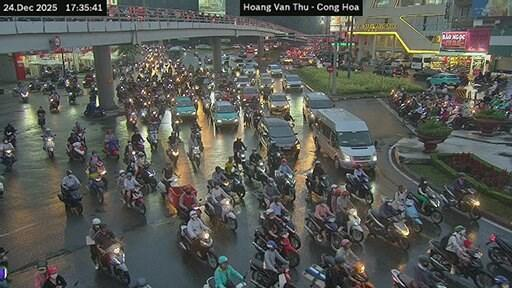motorbike: (364, 208, 409, 248), (179, 225, 217, 268), (454, 248, 492, 287), (304, 211, 341, 250), (441, 184, 480, 219), (249, 259, 294, 287), (409, 188, 441, 223), (102, 243, 130, 283), (204, 198, 236, 229), (428, 241, 458, 274), (345, 172, 373, 203), (338, 207, 362, 242), (275, 230, 298, 266), (486, 234, 511, 265), (278, 214, 300, 247), (220, 169, 245, 198), (57, 188, 82, 214), (403, 198, 422, 232), (345, 262, 369, 287), (275, 170, 294, 201), (307, 172, 329, 198), (246, 160, 268, 184), (447, 112, 476, 129), (253, 228, 268, 259), (127, 188, 144, 214), (86, 175, 102, 202), (391, 269, 415, 287), (141, 162, 156, 189), (67, 140, 85, 161), (189, 127, 202, 151), (188, 144, 201, 167), (2, 148, 15, 171), (166, 144, 179, 166), (41, 135, 53, 157), (83, 103, 105, 115), (236, 149, 248, 171), (0, 251, 7, 286), (103, 143, 118, 157), (320, 253, 333, 268), (147, 128, 156, 149), (3, 130, 15, 145), (131, 139, 144, 152), (42, 81, 54, 94), (127, 111, 137, 126), (134, 278, 150, 287), (202, 277, 216, 287), (48, 98, 57, 112), (54, 76, 64, 88), (19, 89, 28, 102), (28, 81, 41, 90), (38, 113, 44, 129), (69, 91, 76, 103), (259, 211, 265, 224), (0, 175, 3, 194), (434, 283, 447, 287), (233, 283, 246, 287), (99, 261, 102, 265)
